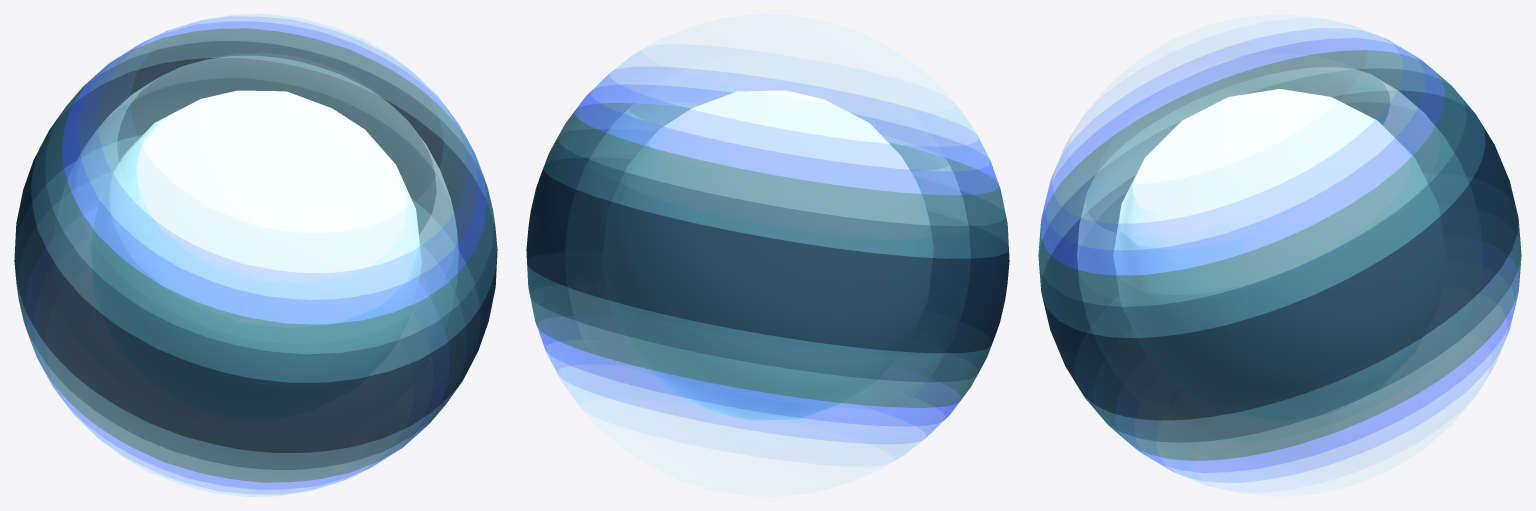
Rendered from plasma_ball_131.glb.
3 renders of one model, left to right at view 1: azimuth 30°, elevation 25°; view 2: azimuth 150°, elevation 25°; view 3: azimuth 270°, elevation 25°, orthographic.
Visible parts, largest first — view 1: plasma_shell, plasma_core, plasma_corona; view 2: plasma_shell, plasma_core, plasma_corona; view 3: plasma_shell, plasma_core, plasma_corona.
Part boxes in pixels (left/top/right/bottom): plasma_shell: left=14, top=14, right=497, bottom=496; plasma_core: left=90, top=90, right=421, bottom=382; plasma_corona: left=56, top=55, right=458, bottom=368; plasma_shell: left=526, top=44, right=1009, bottom=466; plasma_core: left=610, top=90, right=933, bottom=420; plasma_corona: left=568, top=101, right=968, bottom=408; plasma_shell: left=1038, top=18, right=1521, bottom=492; plasma_core: left=1113, top=89, right=1439, bottom=421; plasma_corona: left=1077, top=67, right=1477, bottom=443.
Size of the model in its own units: 20 by 20 by 20.
